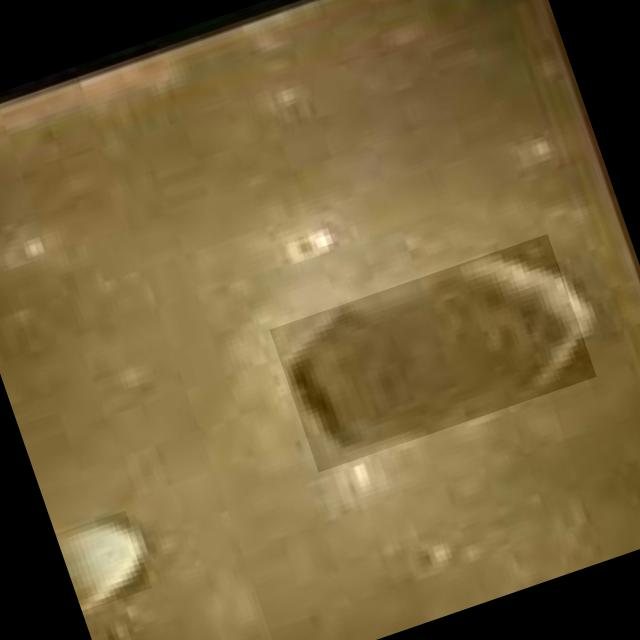crater: (269, 234, 596, 472), (55, 509, 152, 612), (286, 231, 330, 264)
